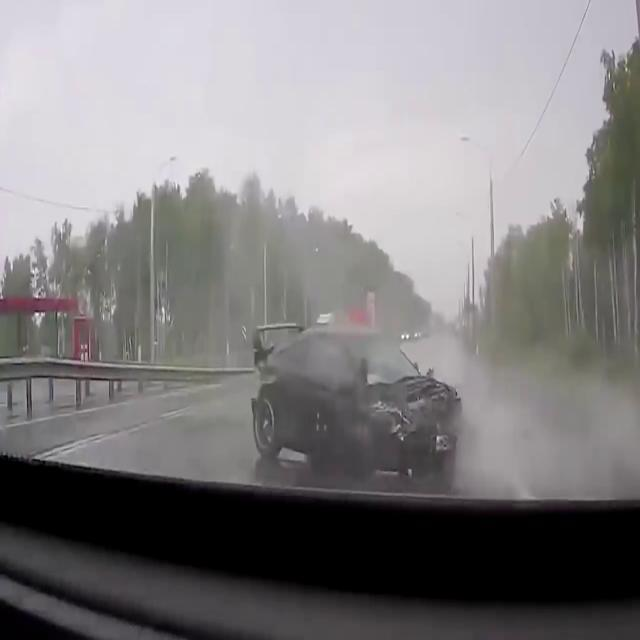single accident: (216, 256, 482, 498)
